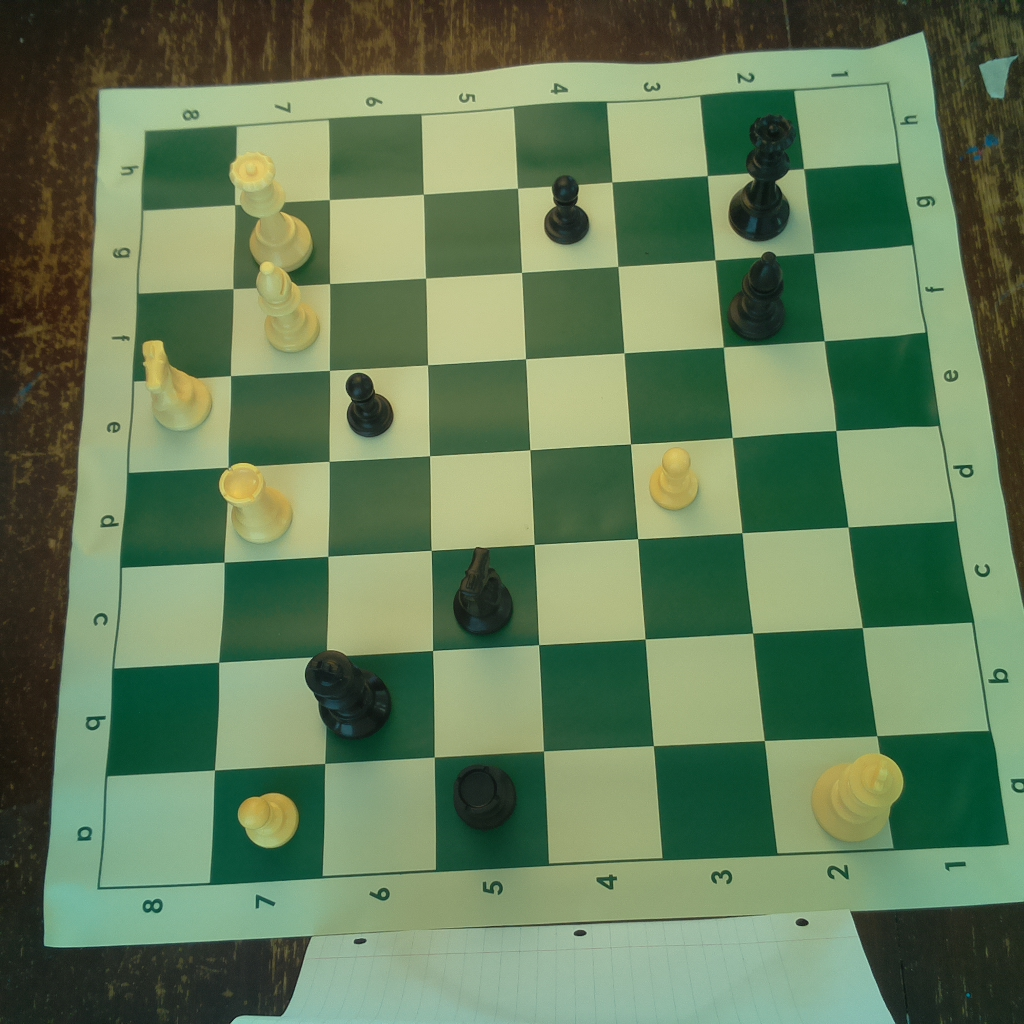black_bishop: (724, 248, 789, 343)
black_king: (298, 640, 398, 741)
black_knight: (447, 545, 518, 636)
black_pawn: (540, 170, 596, 248), (342, 365, 396, 443)
black_queen: (728, 110, 796, 243)
black_rook: (451, 761, 524, 831)
file_a: (96, 727, 1007, 892)
file_b: (105, 619, 992, 780)
file_c: (112, 522, 979, 670)
file_d: (115, 422, 962, 567)
file_e: (127, 328, 941, 474)
file_f: (132, 244, 928, 383)
file_g: (134, 160, 915, 296)
file_h: (136, 83, 903, 212)
outline: (94, 82, 1008, 893)
rank_1: (794, 80, 1010, 854)
rank_2: (697, 86, 897, 860)
rank_3: (605, 95, 779, 864)
rank_4: (514, 99, 663, 869)
rank_5: (420, 105, 551, 873)
rank_6: (321, 113, 438, 880)
rank_7: (205, 119, 340, 890)
rank_8: (98, 126, 223, 896)
white_bishop: (250, 257, 323, 354)
white_king: (808, 747, 908, 844)
white_knight: (140, 332, 215, 436)
white_pawn: (237, 782, 303, 852), (647, 445, 701, 514)
white_queen: (225, 148, 315, 271)
white_rook: (216, 458, 297, 544)
